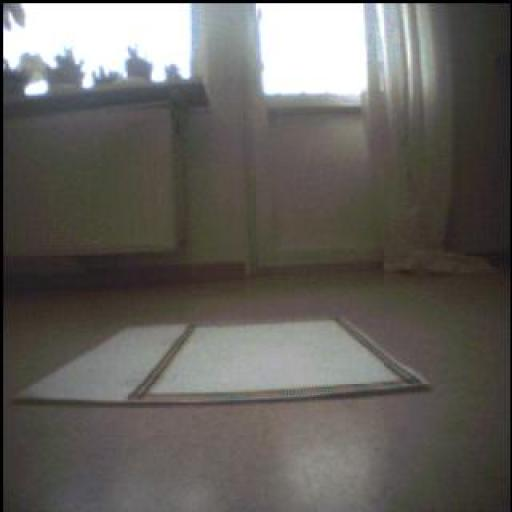Pad: (8, 313, 416, 397)
